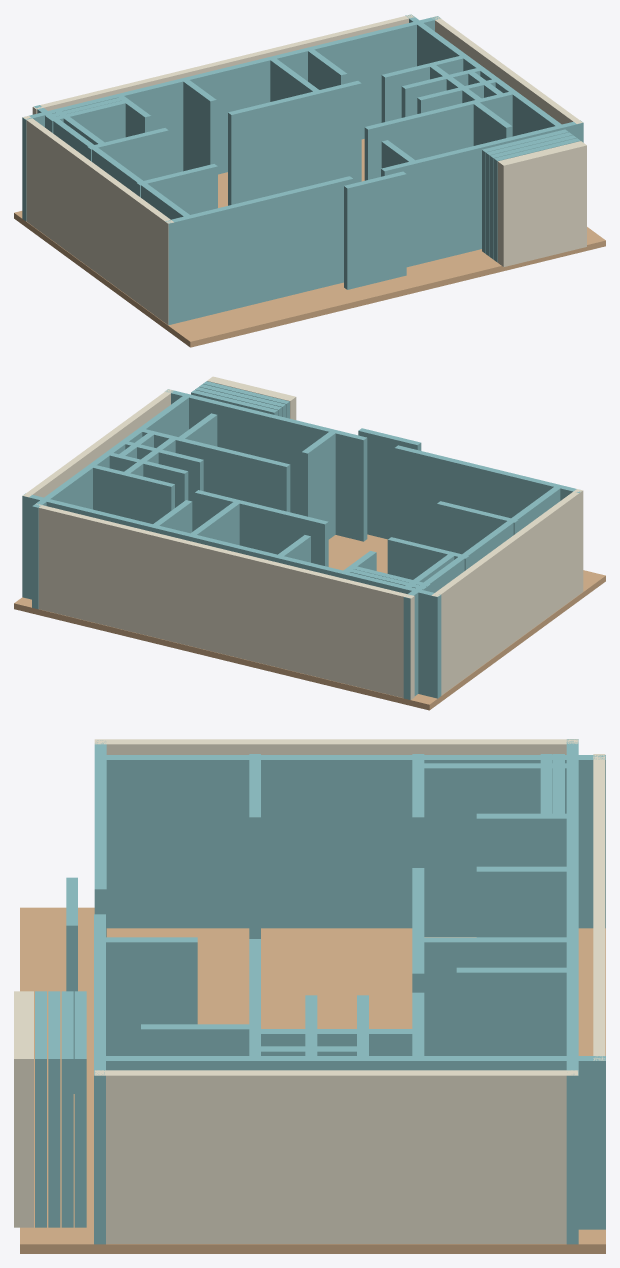
The model's file is 1790493561507-TX86-GROUND-Floor23-building-1790493561544.glb.
3 renders of one model, top to bottom at view 1: azimuth 30°, elevation 25°; view 2: azimuth 150°, elevation 25°; view 3: azimuth 270°, elevation 25°, orthographic. The views are drawn at different scales.
Visible parts, largest first — view 1: Floor plan building shell; view 2: Floor plan building shell; view 3: Floor plan building shell.
Part boxes in pixels (x1,y1,x2,y2): Floor plan building shell: (14,14,605,347); Floor plan building shell: (14,376,605,710); Floor plan building shell: (14,739,605,1253).
Size of the model in its own units: 12 by 2.96 by 8.92.
